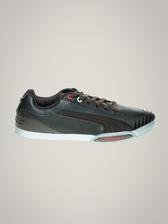shoes: (14, 81, 157, 143)
